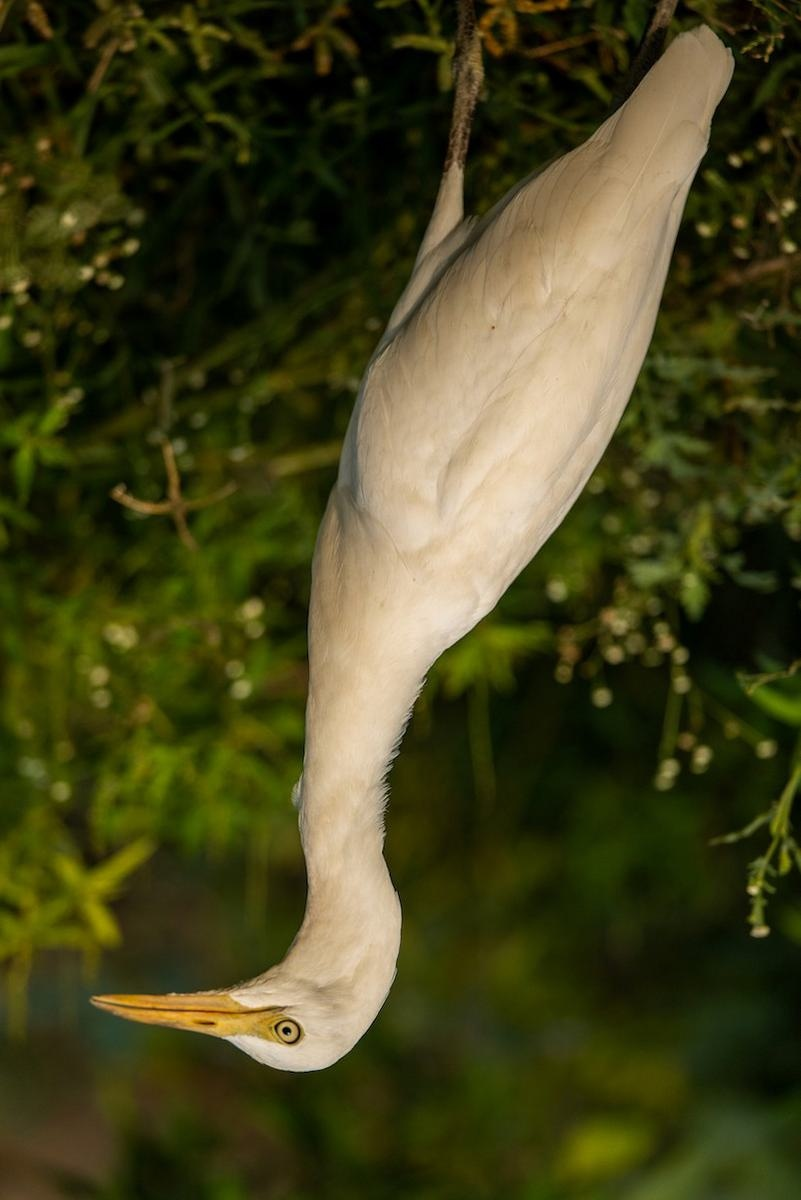egret: (82, 51, 786, 1101)
